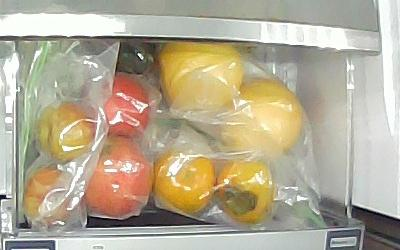apple_vinyl: (85, 137, 152, 227), (89, 72, 151, 137)
grapefruit_vinyl: (220, 78, 301, 157), (157, 41, 245, 109)
persimmon_vinyl: (154, 149, 215, 212), (216, 160, 273, 224)
prune_vinyl: (38, 101, 97, 162), (23, 169, 77, 222)
